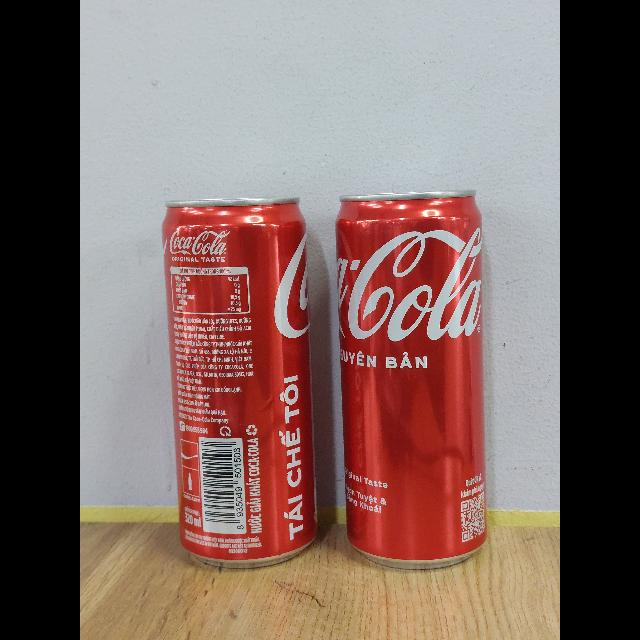coca_cola: (334, 193, 489, 571), (161, 198, 318, 570)
